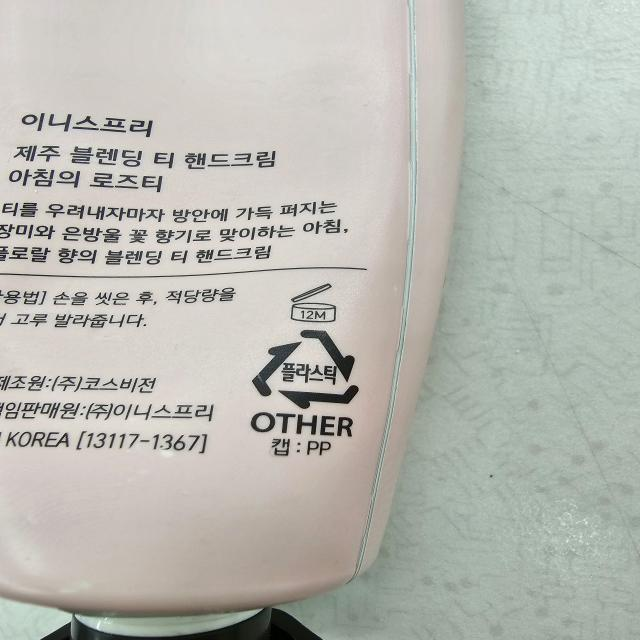Plastic: (252, 325, 364, 411)
